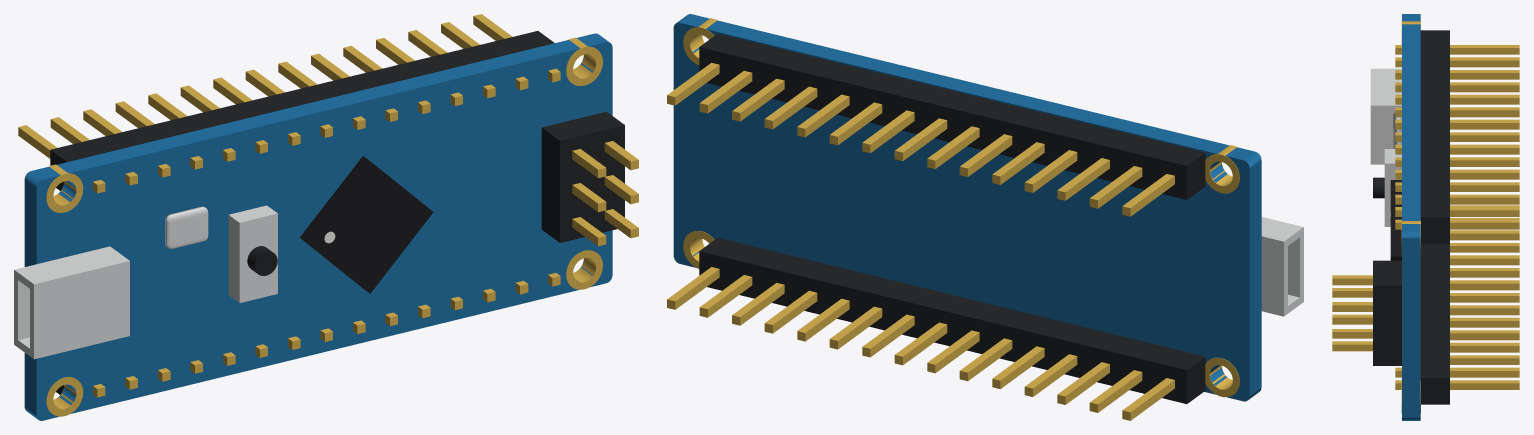
The model's file is arduino-nano.glb.
3 views of the same model, side by side, from view 1: azimuth 30°, elevation 25°; view 2: azimuth 150°, elevation 25°; view 3: azimuth 270°, elevation 25° (orthographic). The views are drawn at different scales.
Visible parts, largest first — view 1: board, usb, header_2_pins, atmega328p, header_2, header_6, button_5, header_6_pins, header_1_pins, crystal_7, hole_4, hole_2 (+3 smaller); view 2: board, header_1, header_2, header_1_pins, header_2_pins, usb, hole_3, hole_1, hole_4, hole_2; view 3: header_2_pins, header_1_pins, board, header_2, header_1, header_6, header_6_pins, usb, atmega328p, button_5, button_5_cap.
Boxes of the visible parts, box(x1,y1,x2,y2) form: board: box(24, 33, 612, 420); usb: box(14, 246, 129, 359); header_2_pins: box(18, 14, 560, 193); atmega328p: box(300, 156, 433, 293); header_2: box(50, 31, 554, 190); header_6: box(541, 111, 624, 242); button_5: box(228, 205, 277, 303); header_6_pins: box(572, 141, 638, 246); header_1_pins: box(93, 273, 560, 397); crystal_7: box(165, 206, 208, 248); hole_4: box(566, 37, 602, 85); hole_2: box(566, 250, 602, 289); board: box(673, 14, 1261, 401); header_1: box(699, 238, 1205, 403); header_2: box(699, 33, 1205, 199); header_1_pins: box(667, 267, 1174, 420); header_2_pins: box(667, 62, 1174, 216); usb: box(1261, 217, 1303, 316); hole_3: box(1205, 145, 1239, 193); hole_1: box(1205, 357, 1239, 397); hole_4: box(683, 18, 717, 65); hole_2: box(683, 231, 714, 268); header_2_pins: box(1395, 45, 1519, 229); header_1_pins: box(1395, 205, 1519, 389); board: box(1402, 14, 1420, 420); header_2: box(1420, 30, 1449, 244); header_1: box(1420, 244, 1449, 404); header_6: box(1373, 260, 1401, 365); header_6_pins: box(1332, 275, 1372, 351); usb: box(1370, 68, 1401, 164); atmega328p: box(1390, 180, 1401, 260); button_5: box(1384, 149, 1401, 226); button_5_cap: box(1373, 177, 1384, 198).
Bounding box in the file's own units: 46.75 × 18.06 × 16.1.
